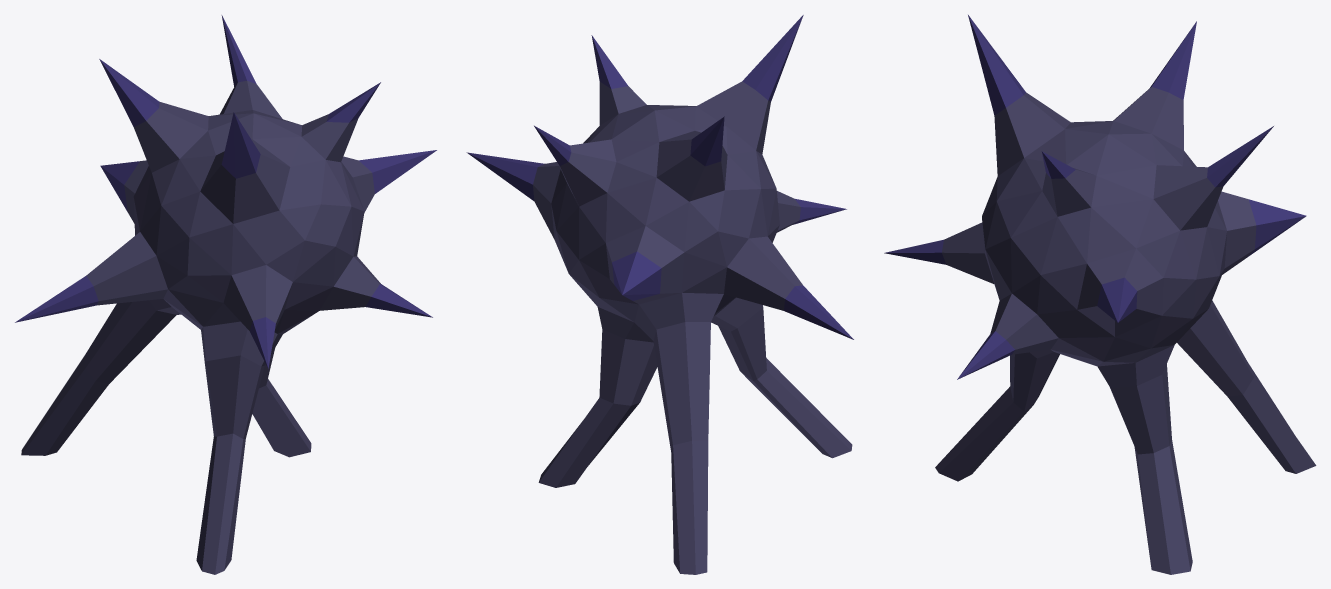
File: VL_Plant011.fbx
3 renders of one model, left to right at view 1: azimuth 30°, elevation 25°; view 2: azimuth 150°, elevation 25°; view 3: azimuth 270°, elevation 25°, orthographic. The views are drawn at different scales.
Visible parts, largest first — view 1: VL_Plant011; view 2: VL_Plant011; view 3: VL_Plant011.
Boxes of the visible parts, <box> form: VL_Plant011: <box>15,15,436,574</box>; VL_Plant011: <box>466,15,853,574</box>; VL_Plant011: <box>884,15,1316,574</box>.
Size of the model in its own units: 28.34 by 29.27 by 24.38.
1 material, 1 textured.
